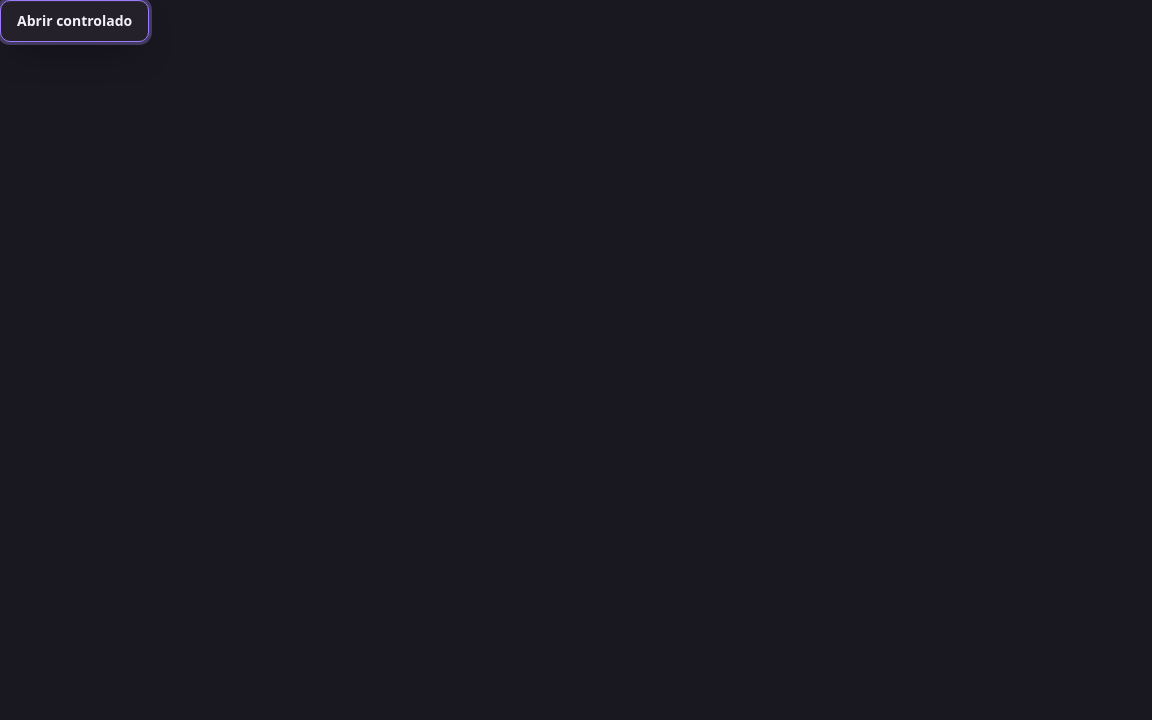
Test: Dialog component contract › returns focus to the control that opened a controlled dialog without a DialogTrigger
Click the button "Abrir controlado" at (75, 21), box [0,0,149,42]
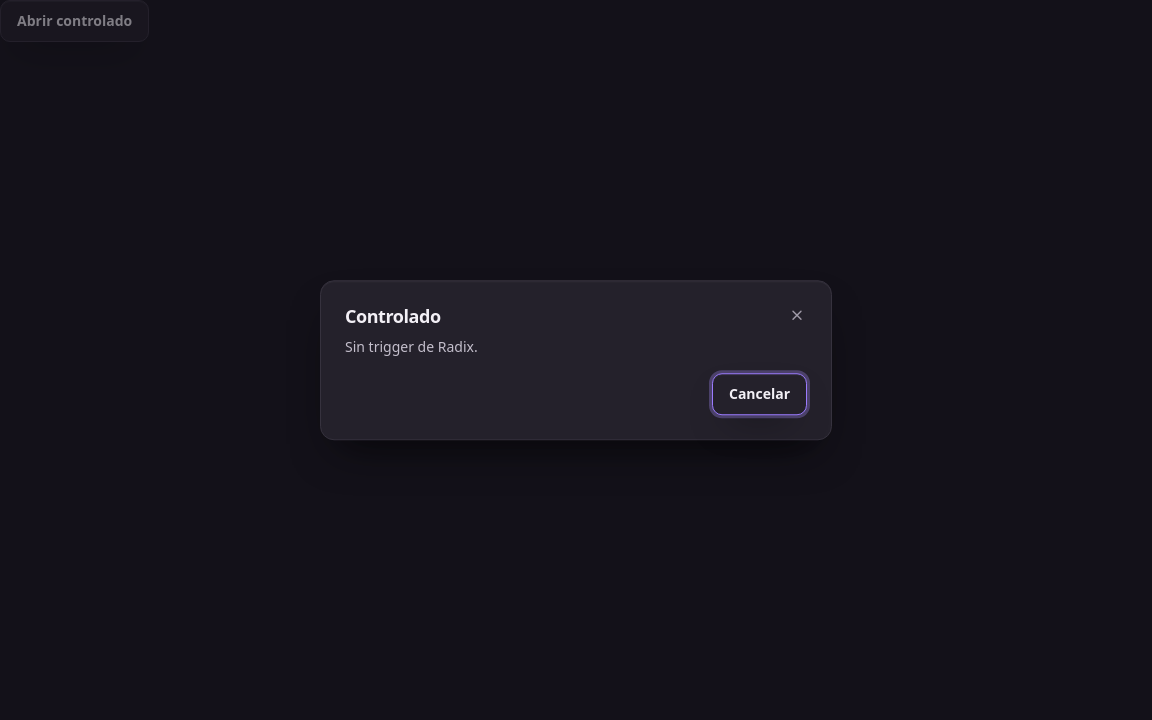
Press Escape in the dialog "Controlado", box [320,280,832,440]
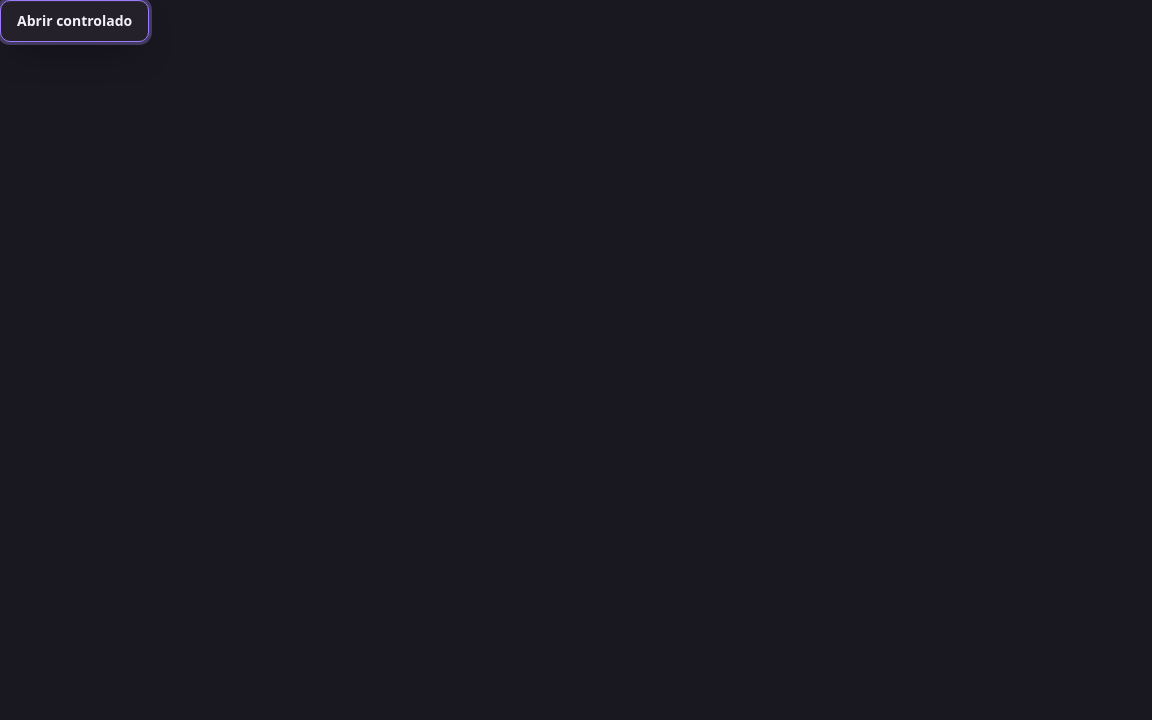
Now the dialog is gone
